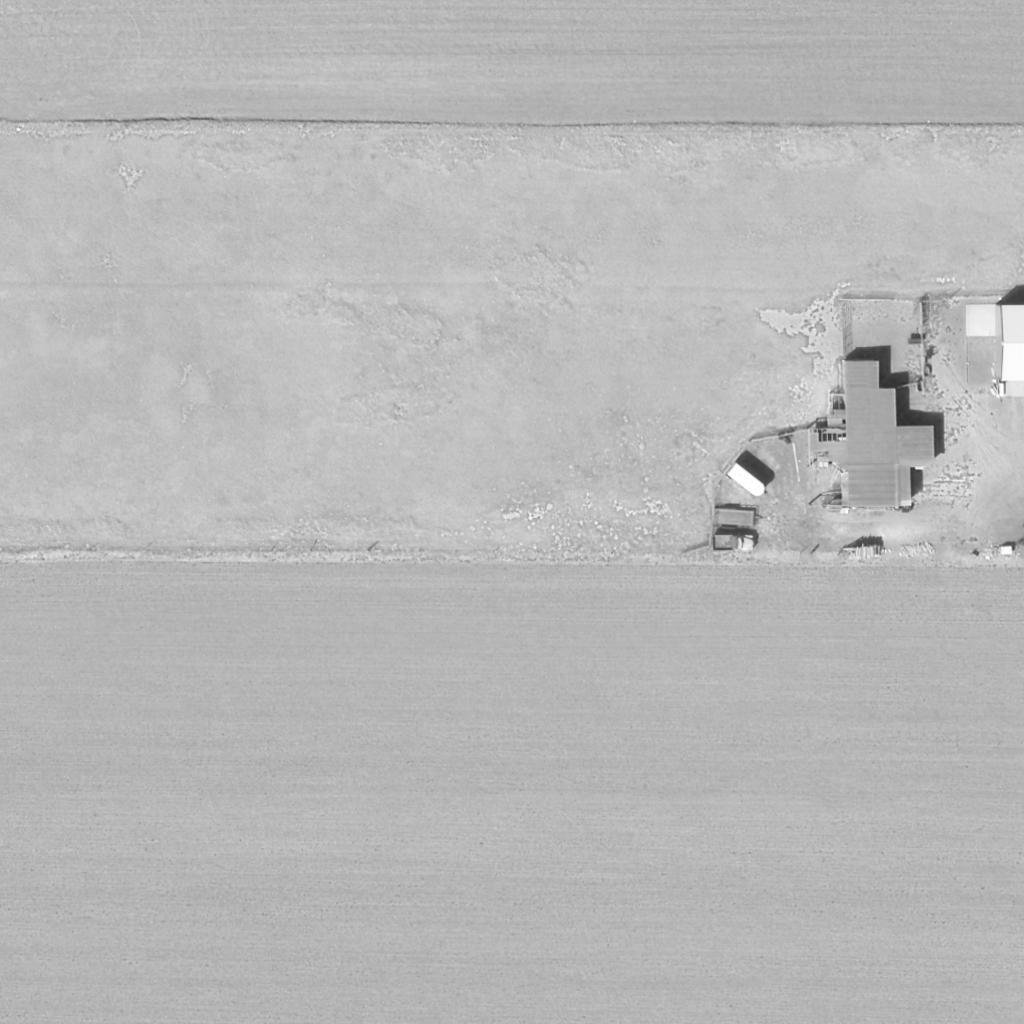vehicle: (727, 464, 769, 500), (710, 533, 756, 553)
